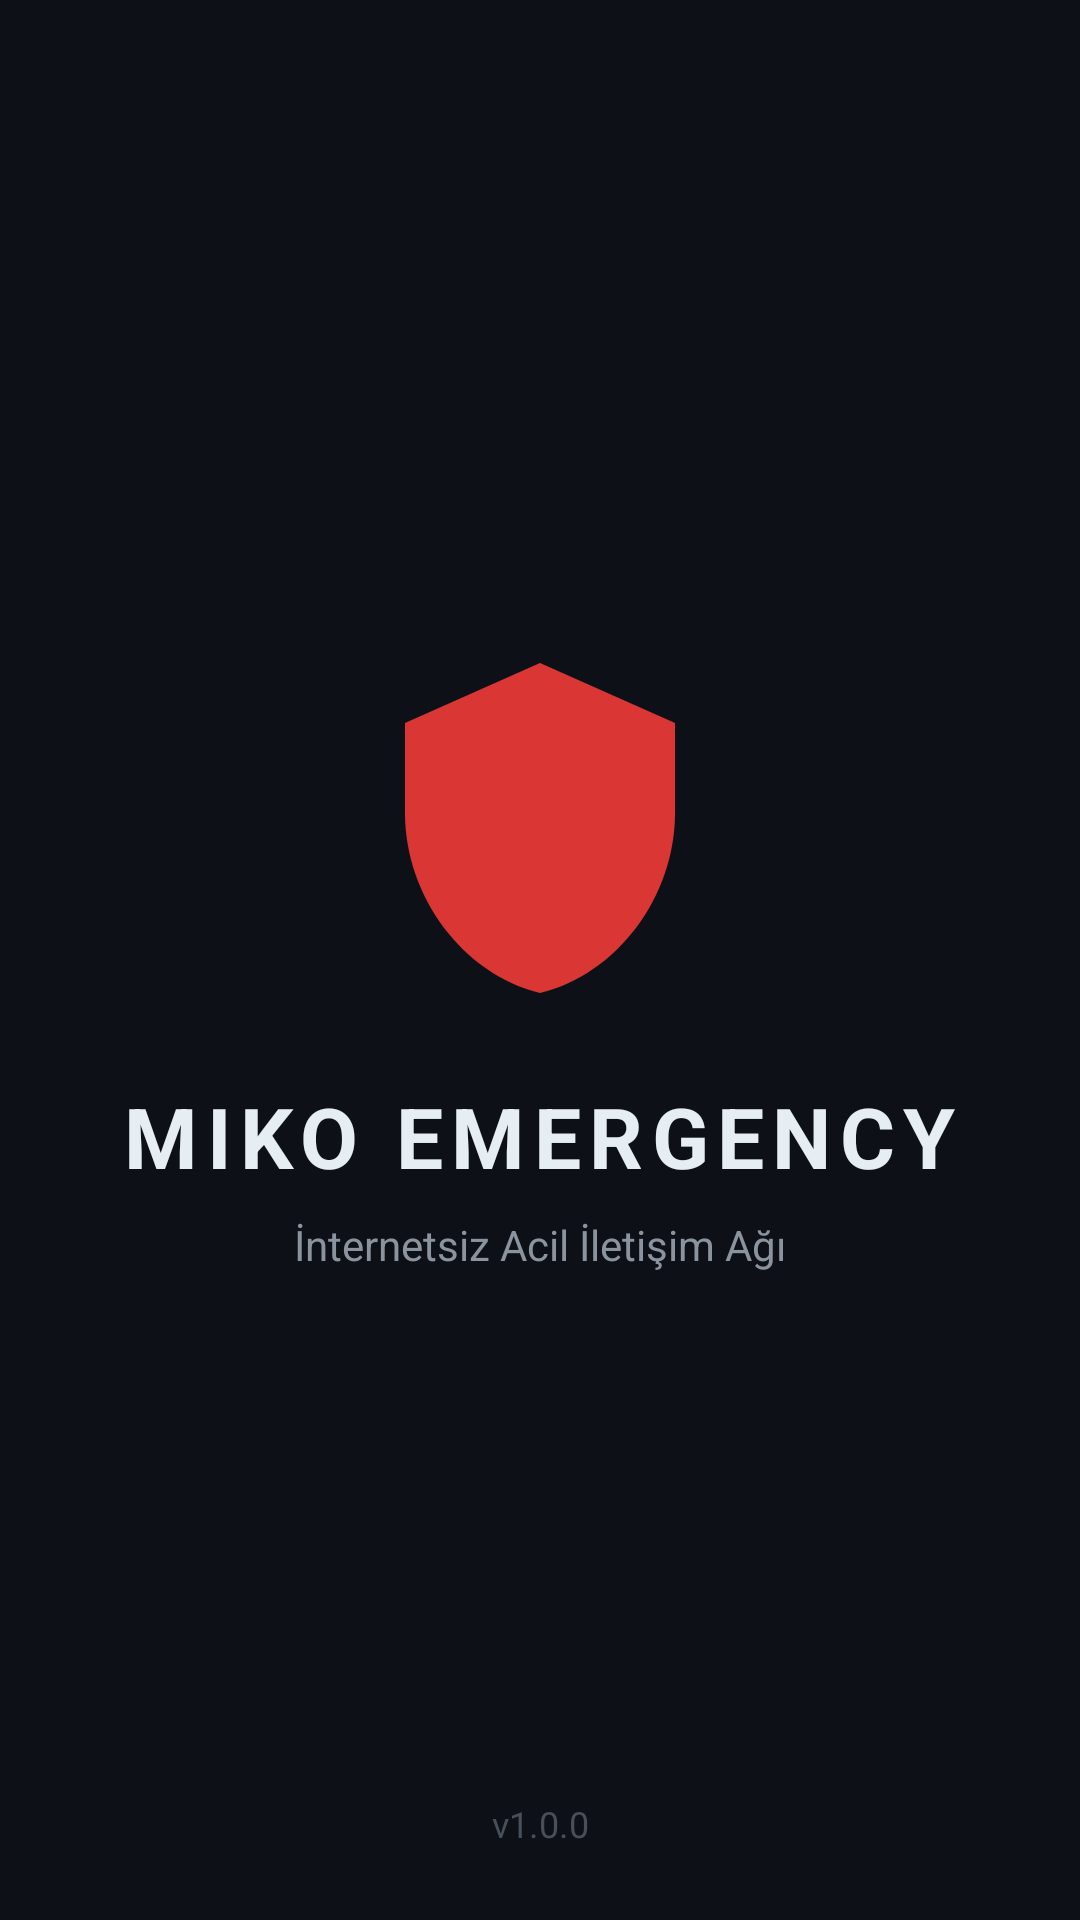

Where to tap for icons on this 1080 x 1920 app screen, as point (x, y):
sos shield: point (540, 828)
